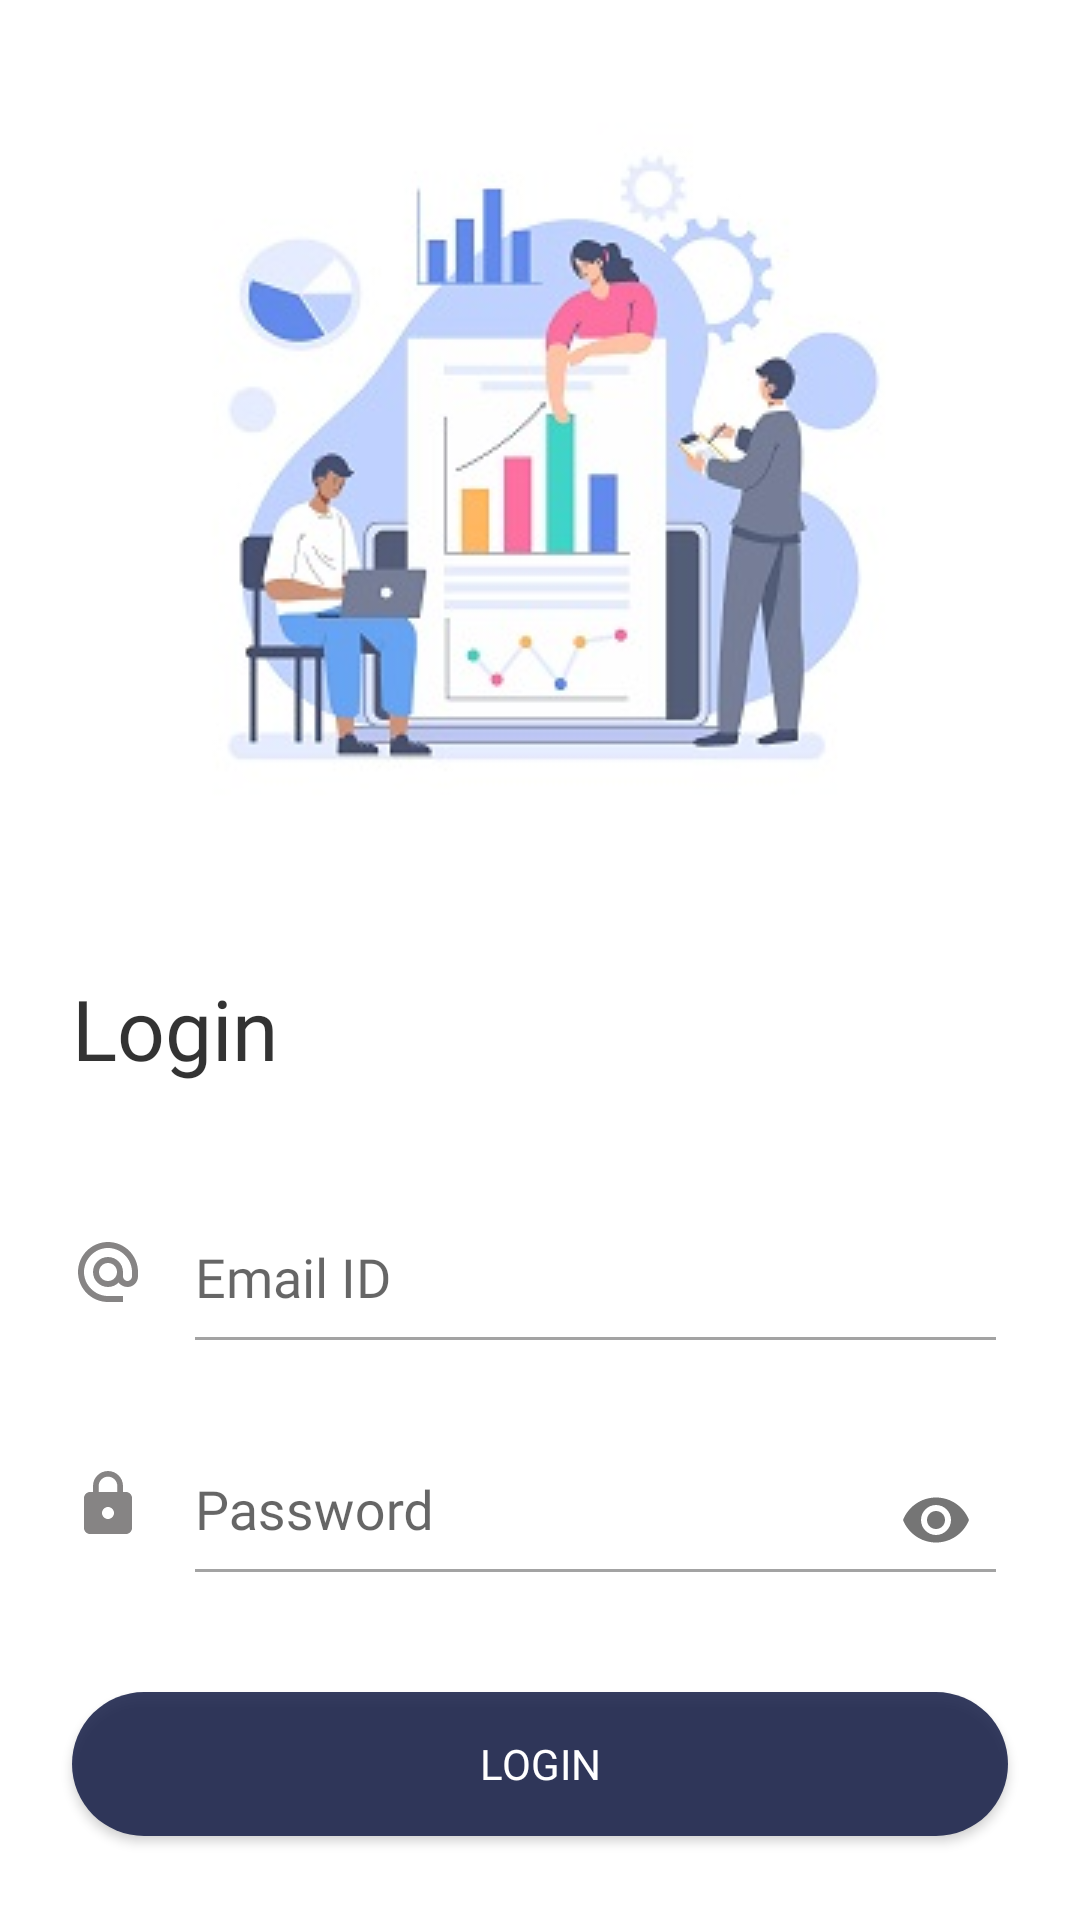

Icons on this 1080×1920 Android screen, each with its box as bbox(x1, y1, x2, y2):
lock: bbox(84, 1471, 132, 1534)
